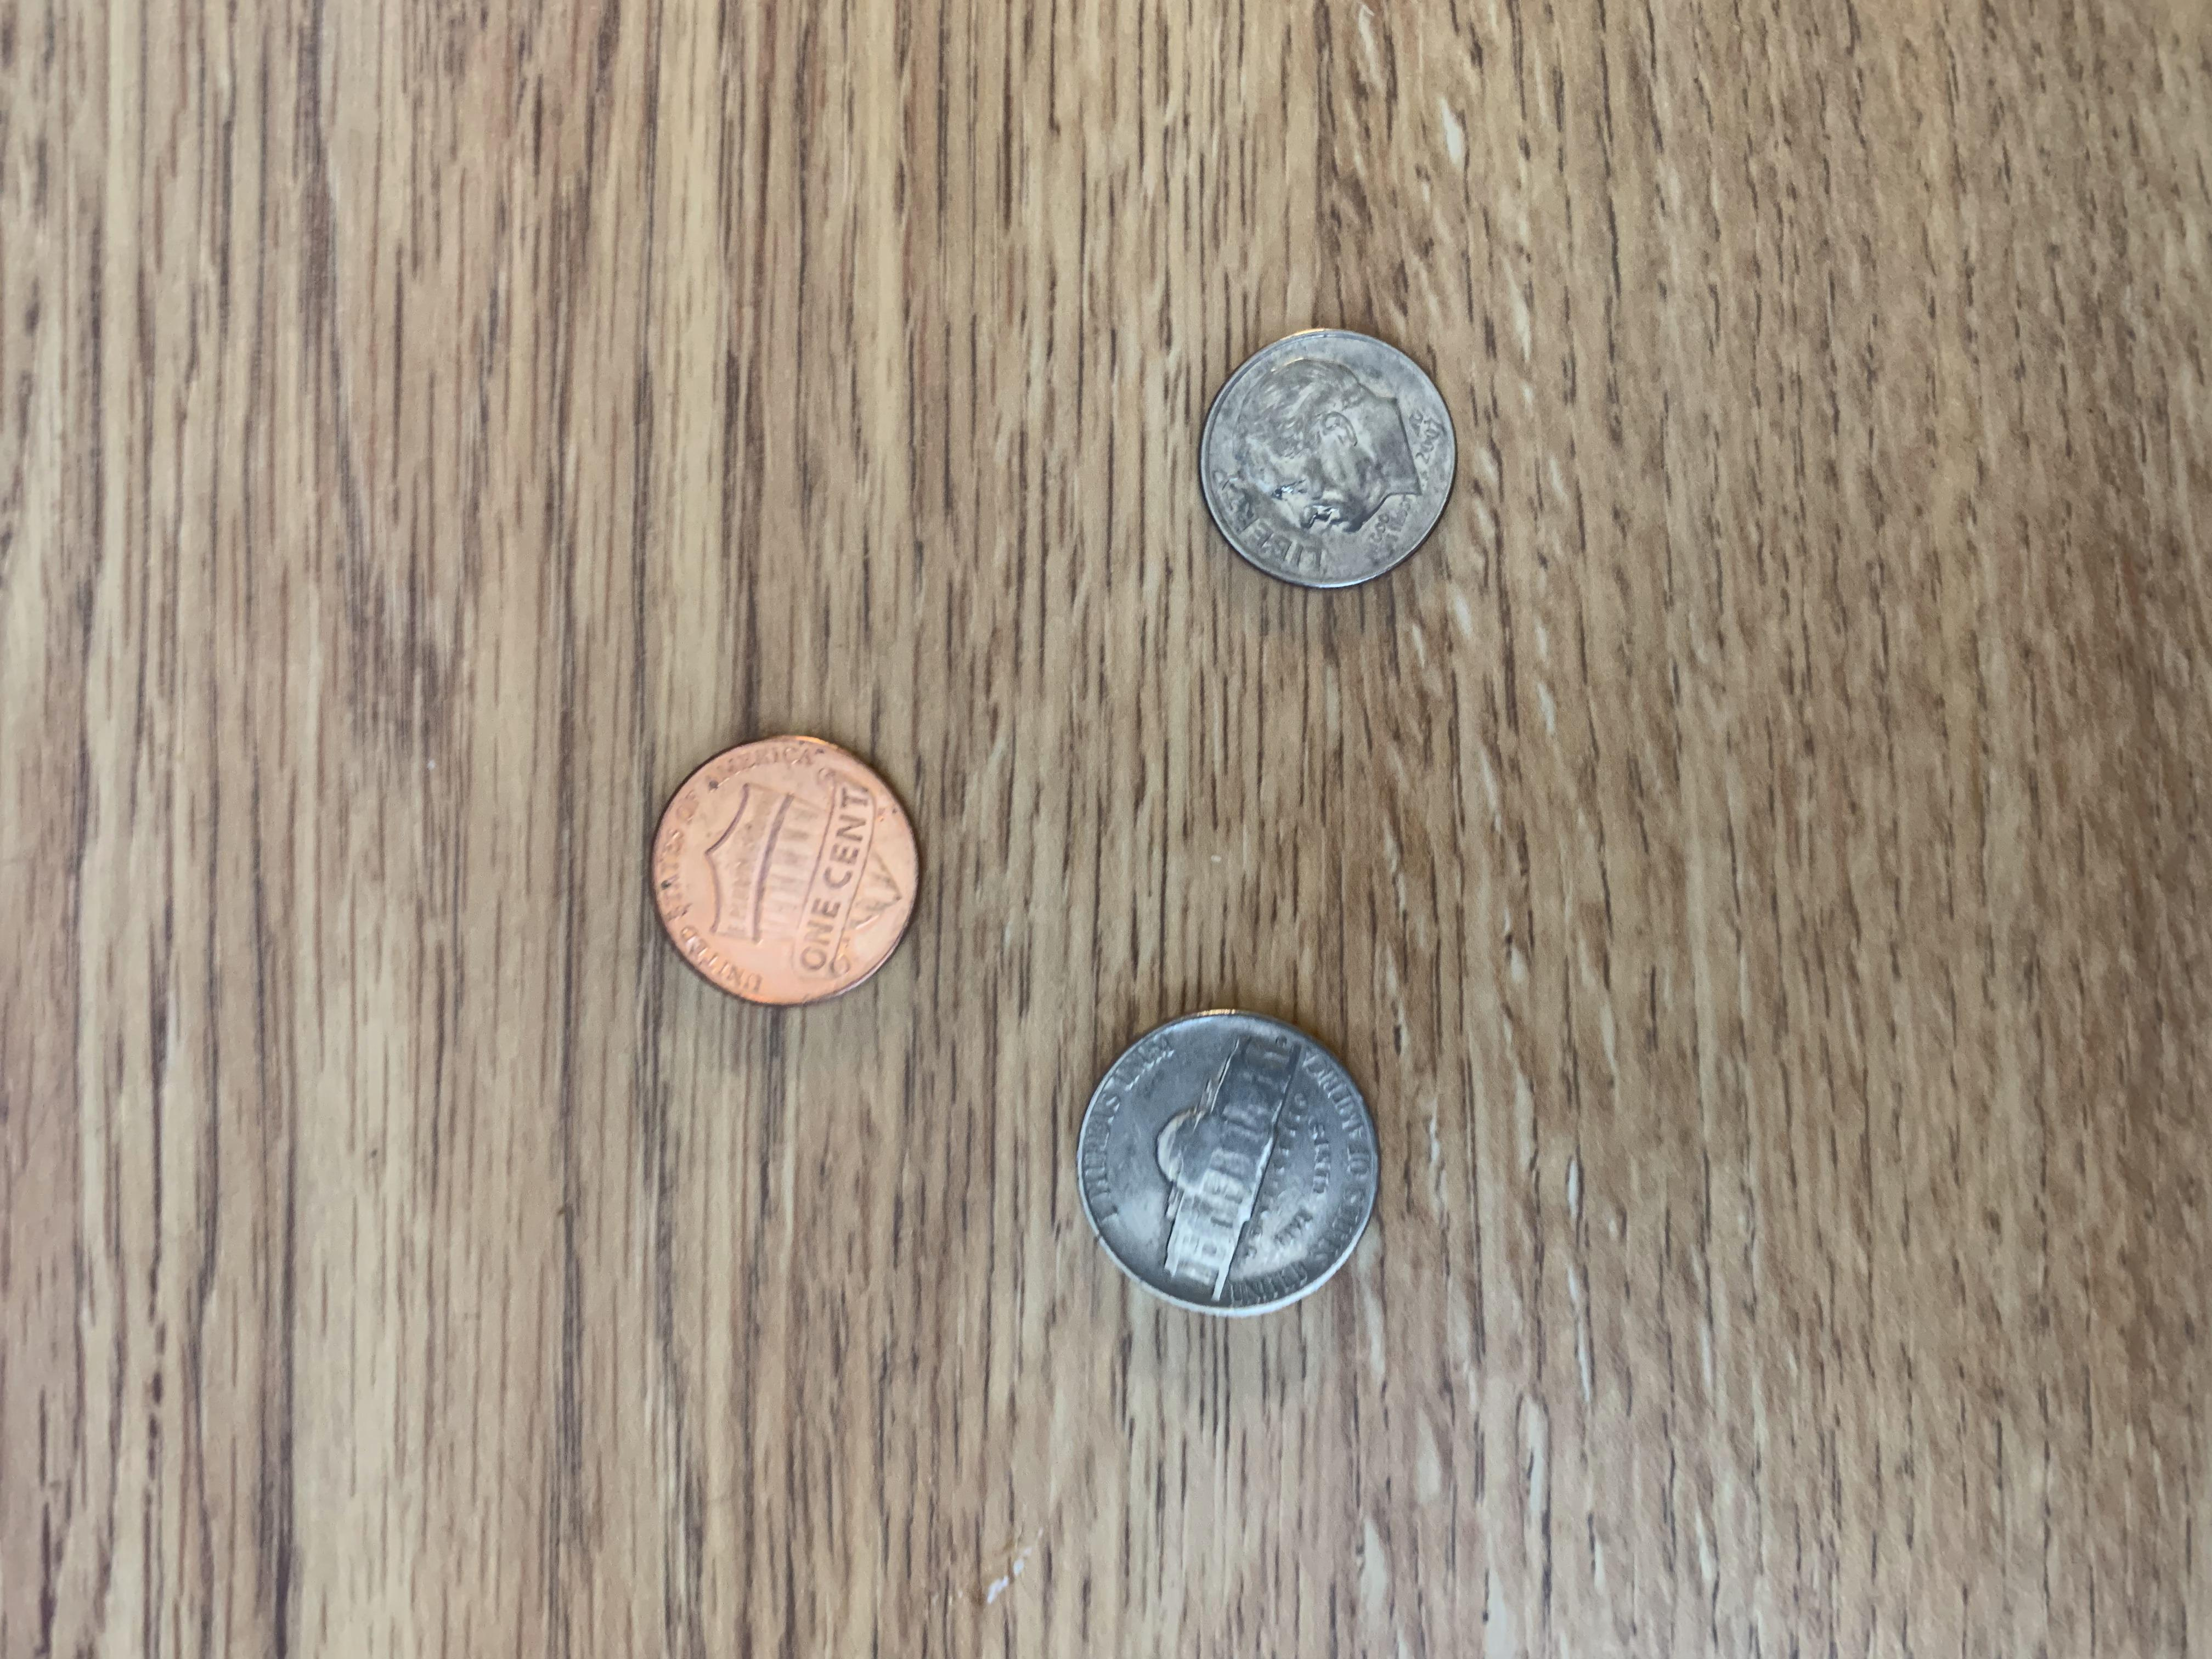Dime: (1191, 314, 1460, 598)
Nickel: (1059, 997, 1397, 1331)
Penny: (625, 727, 942, 1019)
